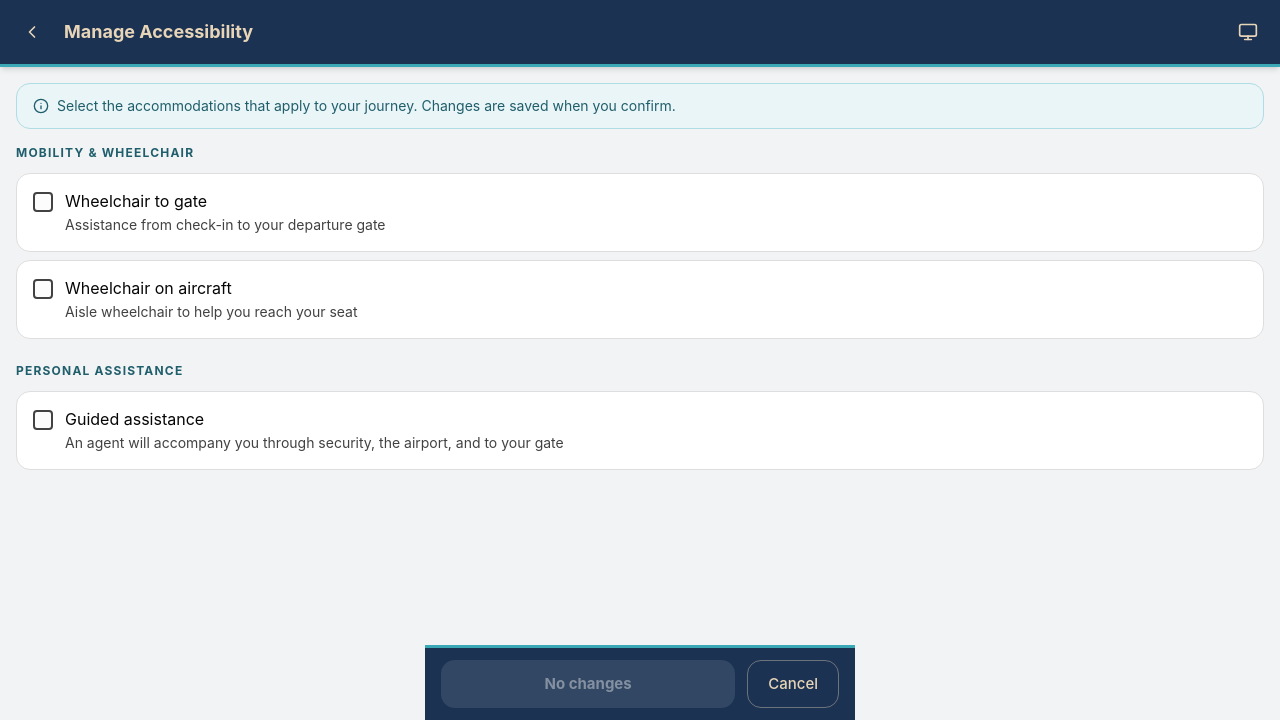
Manage Accessibility page › enables the save button after selecting a new option
Click the checkbox "Wheelchair to gate": (136, 201) [16,173,1264,252]
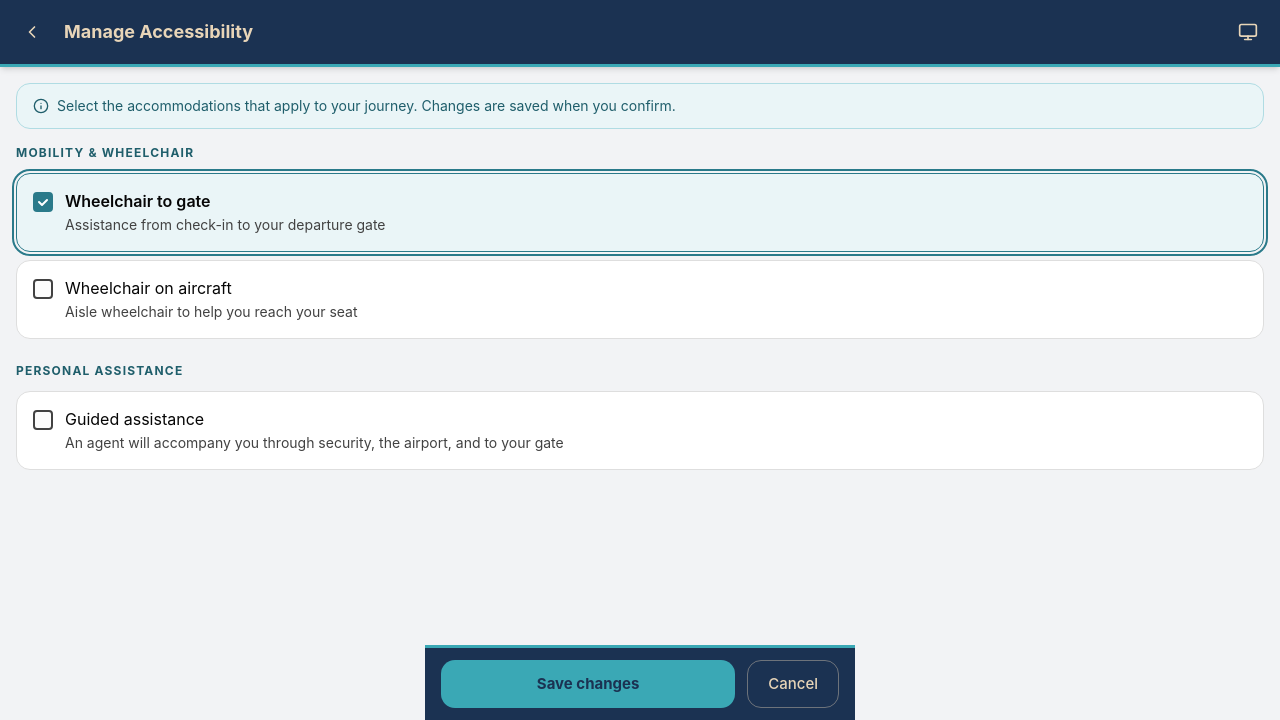
Result: the button "Save changes" is enabled at [441,660,735,708]
